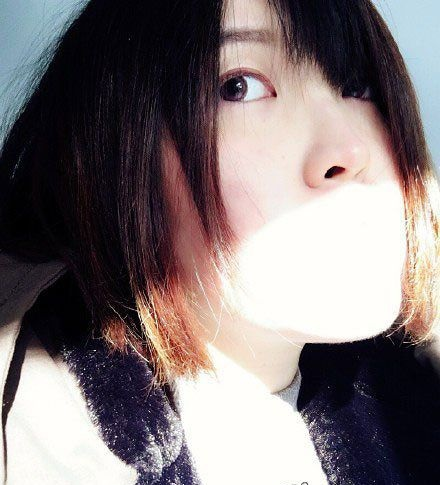face: (159, 1, 421, 334)
